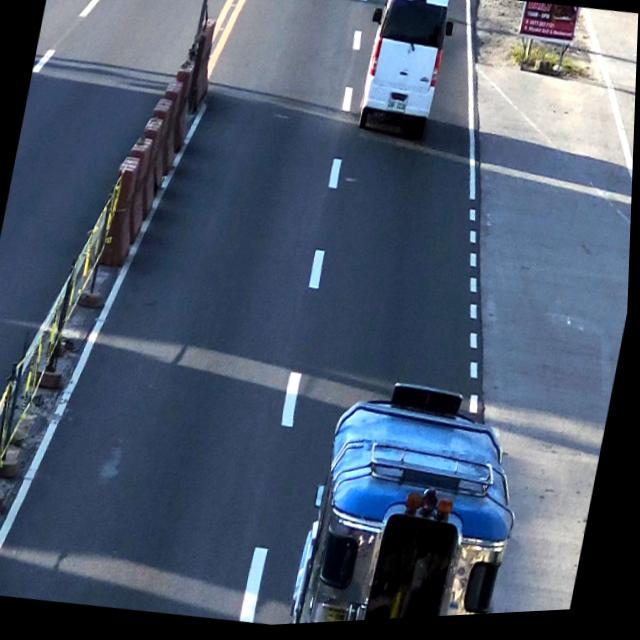Car: (357, 0, 456, 146)
Jeep: (281, 368, 542, 628)
License-Plate: (386, 100, 410, 122)
